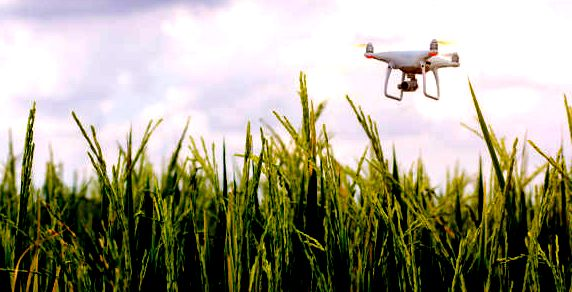Drone: (348, 34, 468, 108)
